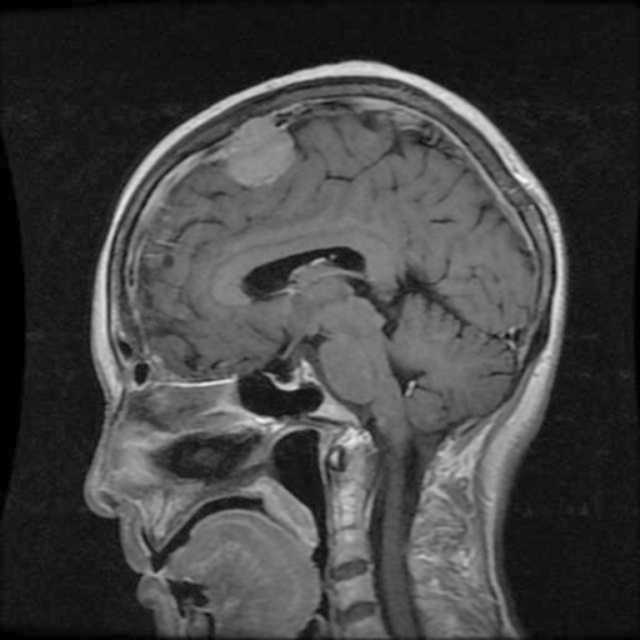meningioma tumor: (211, 113, 311, 195)
